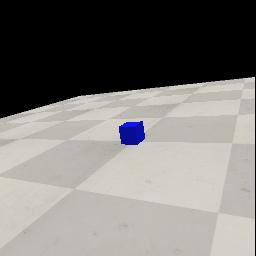box: (119, 121, 145, 145)
